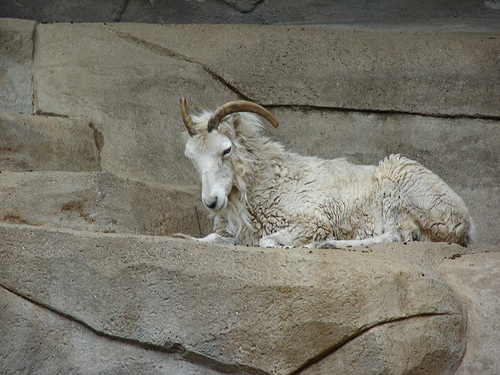goat: (166, 96, 477, 255)
